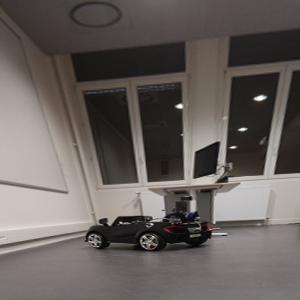big: (82, 209, 214, 255)
